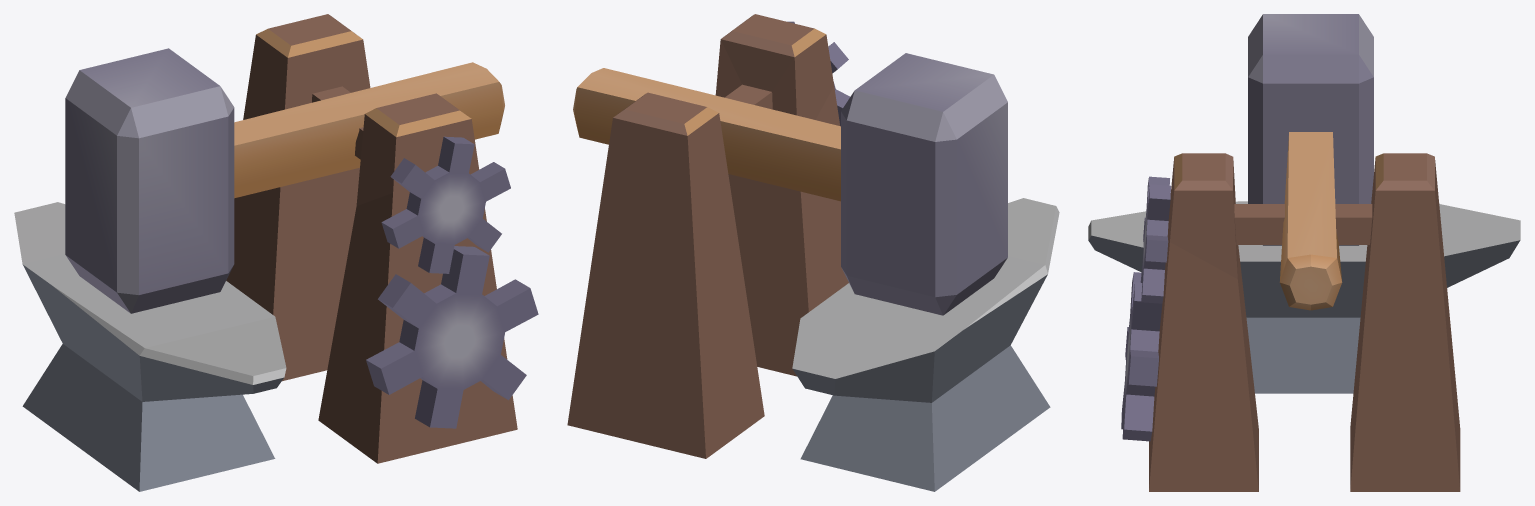
The model's file is Anvil .fbx.
3 renders of one model, left to right at view 1: azimuth 30°, elevation 25°; view 2: azimuth 150°, elevation 25°; view 3: azimuth 270°, elevation 25°, orthographic. The views are drawn at different scales.
Parts seen in each view (by area): view 1: Cube.005, Cube.004, Circle, Circle.001; view 2: Cube.005, Cube.004, Circle.001; view 3: Cube.005, Cube.004, Circle, Circle.001.
Boxes of the visible parts, box(x1,y1,x2,y2) form: Cube.005: box(14, 14, 517, 491); Cube.004: box(65, 48, 504, 313); Circle: box(366, 246, 538, 428); Circle.001: box(381, 136, 510, 273); Cube.005: box(567, 14, 1059, 491); Cube.004: box(573, 53, 1007, 315); Circle.001: box(787, 21, 849, 126); Cube.005: box(1088, 153, 1520, 491); Cube.004: box(1248, 14, 1373, 310); Circle: box(1121, 272, 1162, 441); Circle.001: box(1140, 176, 1170, 303).
Size of the model in its own units: 1.39 by 1.36 by 1.14.
